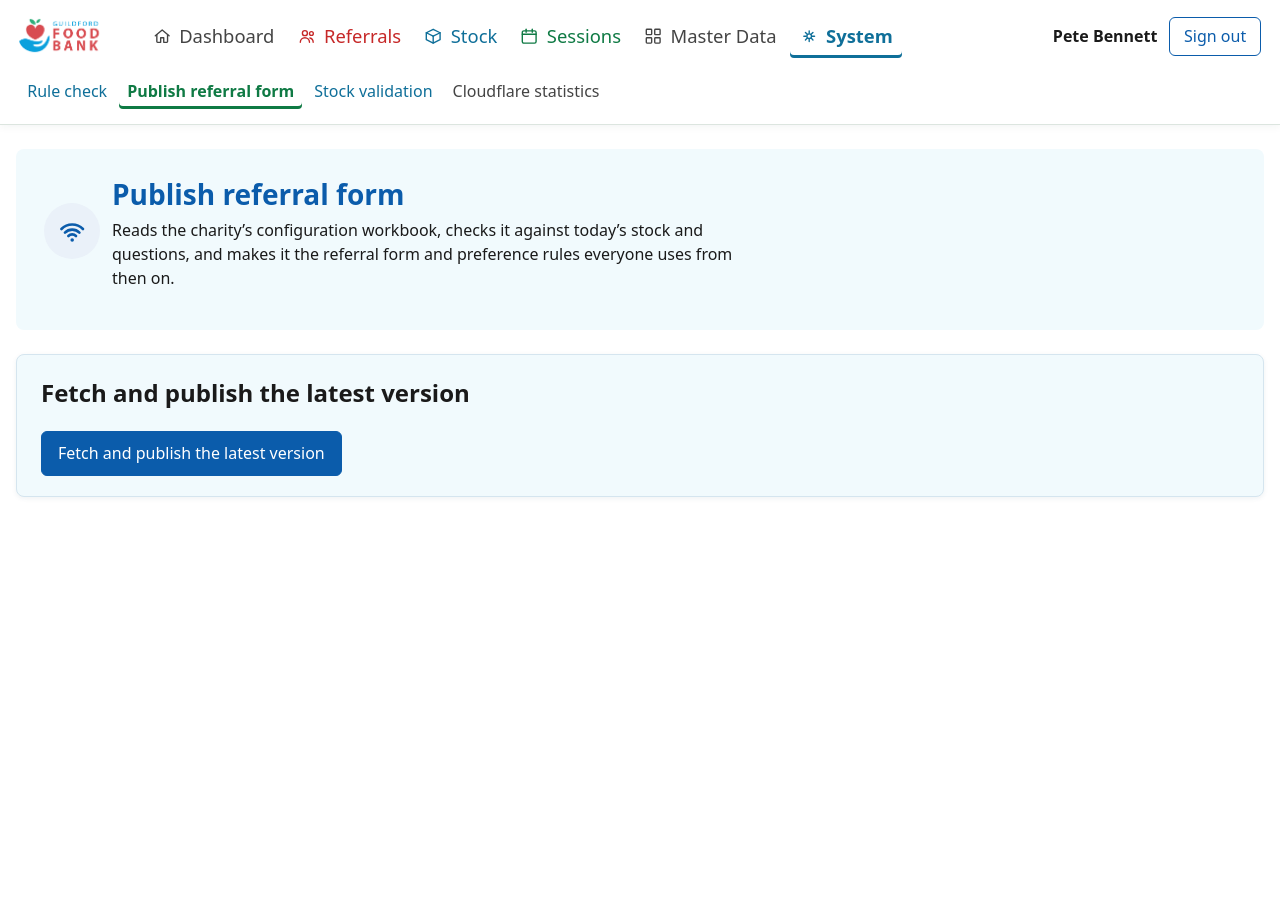
Test: publish referral form › publishes a version that matches its manifest and passes validation
Step 1. Click the button "Fetch and publish the latest version" → (191, 453), box [41,431,342,476]
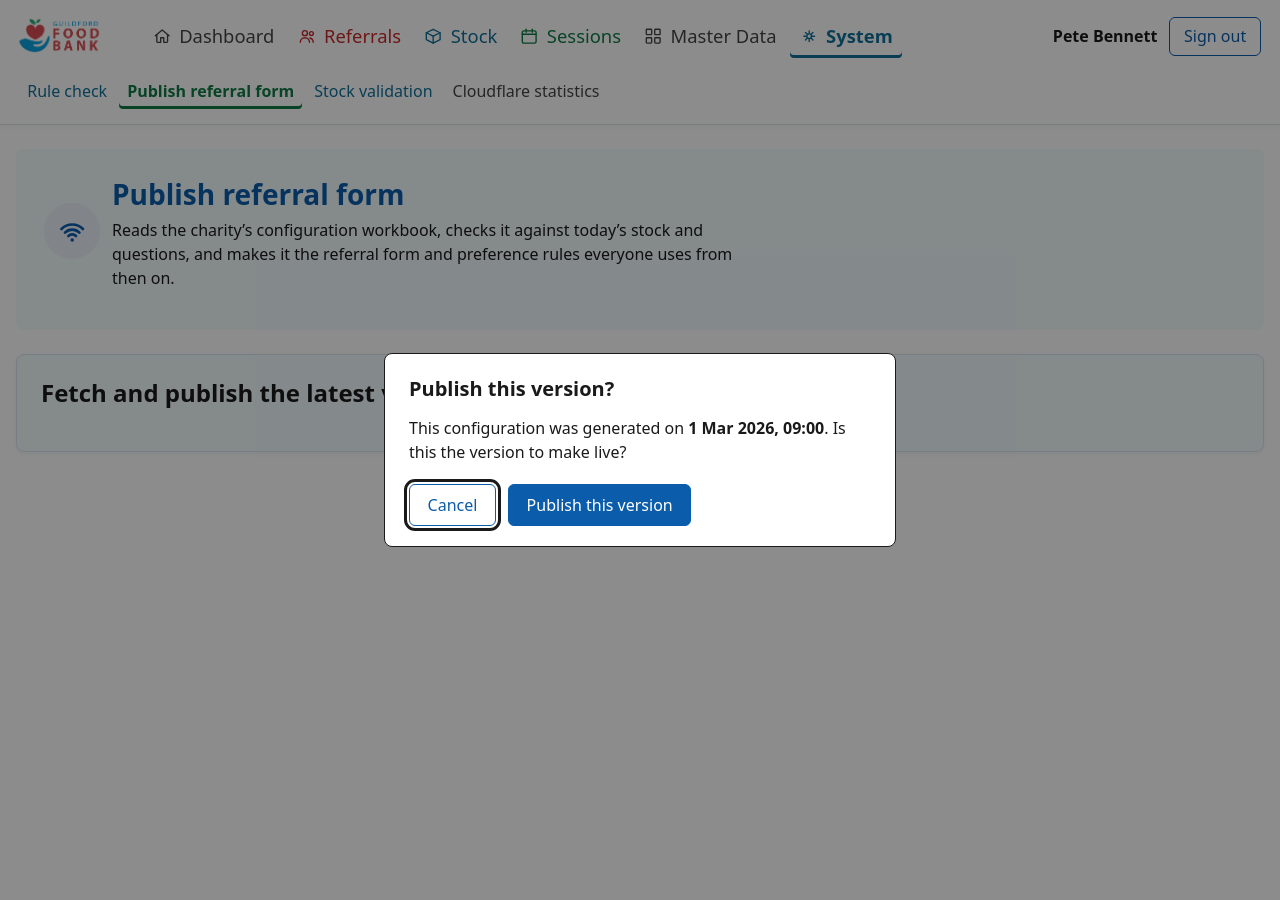
Expected: the heading "Publish this version?" is shown, [409,375,614,402]
Expected: the text "generated on" is shown, [409,417,684,439]
Step 2. Click the button "Publish this version" → (600, 505), box [508,484,691,526]
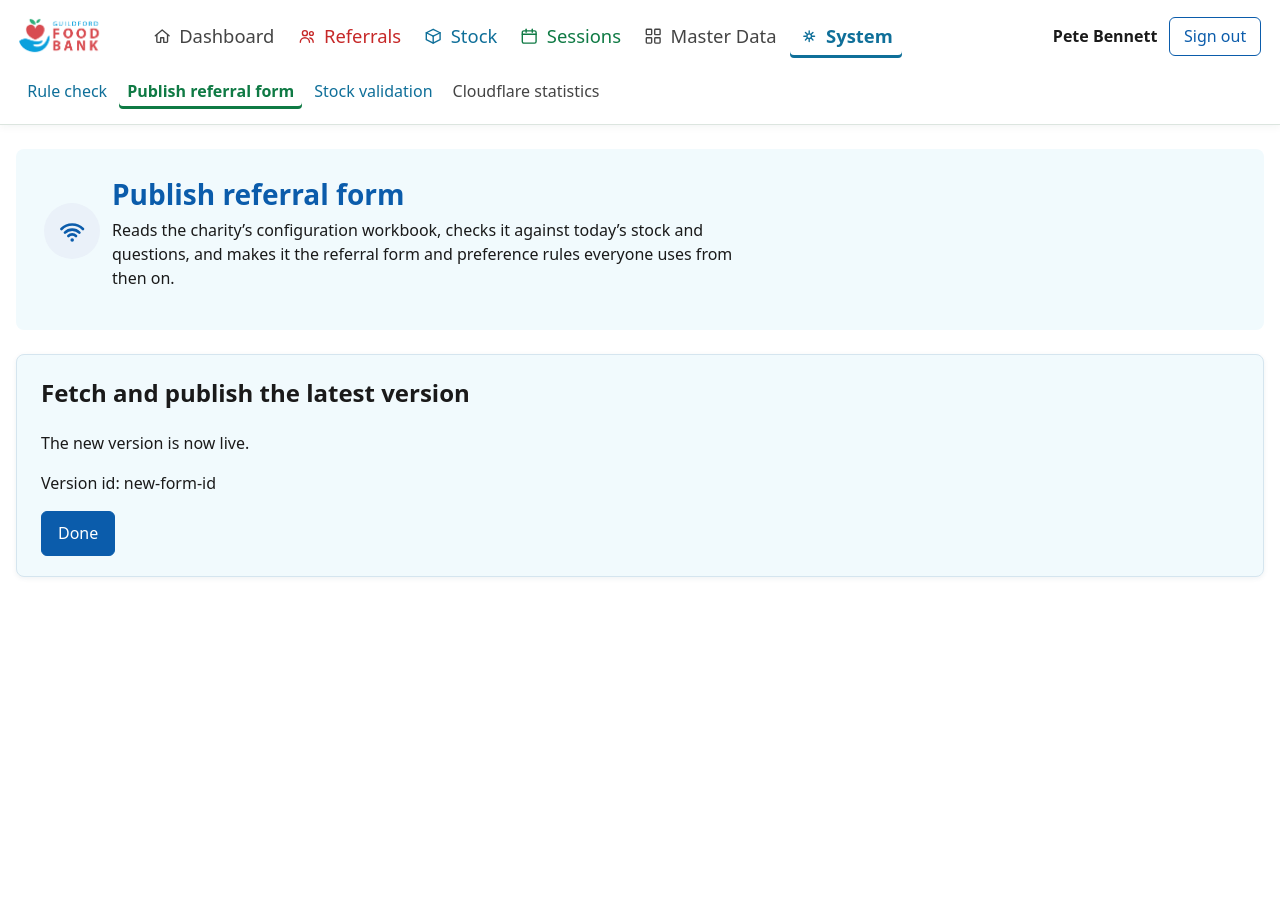
Expected: the text "The new version is now live." is shown, [41,432,249,454]
Expected: the text "Version id: new-form-id" is shown, [41,472,216,494]
